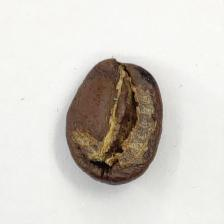NG: (71, 60, 156, 174)
